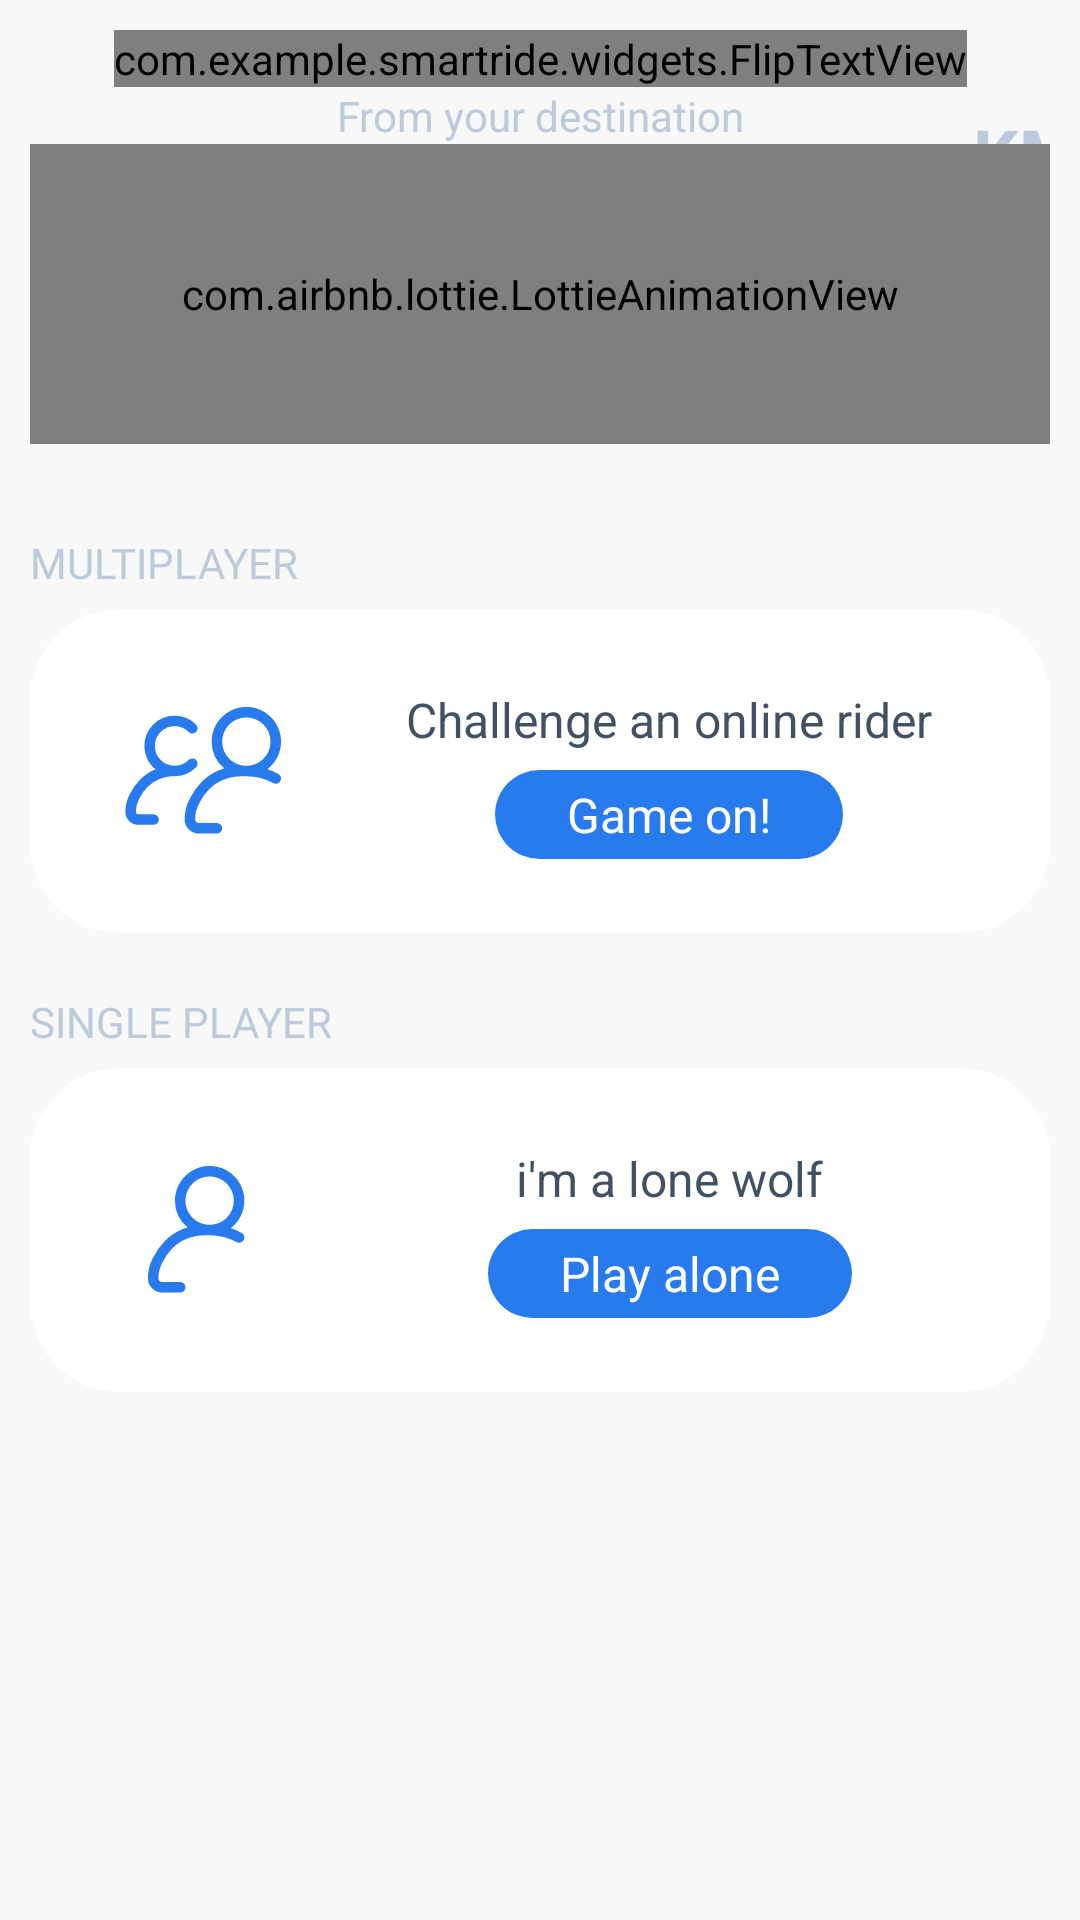

Named icons in this screenshot (1080w x 1920h) and their centers, (x,y):
singel user: (196,1229)
